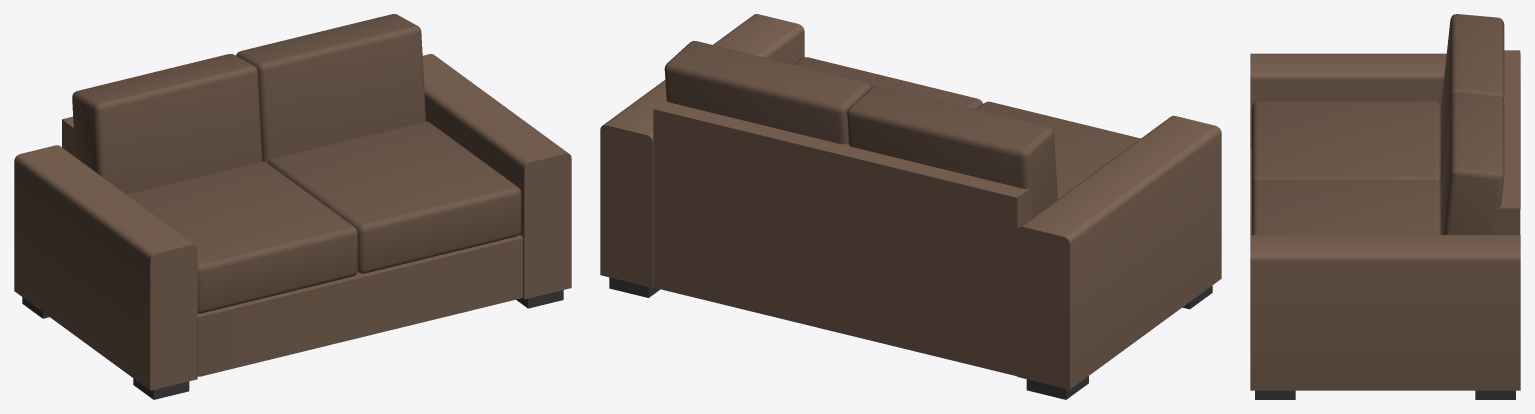
Rendered from Sofa1_C3.fbx.
3 views of the same model, side by side, from view 1: azimuth 30°, elevation 25°; view 2: azimuth 150°, elevation 25°; view 3: azimuth 270°, elevation 25° (orthographic). The views are drawn at different scales.
Visible parts, largest first — view 1: Sofa1_C3; view 2: Sofa1_C3; view 3: Sofa1_C3.
Part boxes in pixels (x1,y1,x2,y2): Sofa1_C3: (14,14,571,399); Sofa1_C3: (600,14,1221,399); Sofa1_C3: (1250,14,1520,399).
Bounding box in the file's own units: 179 × 85.61 × 100.
